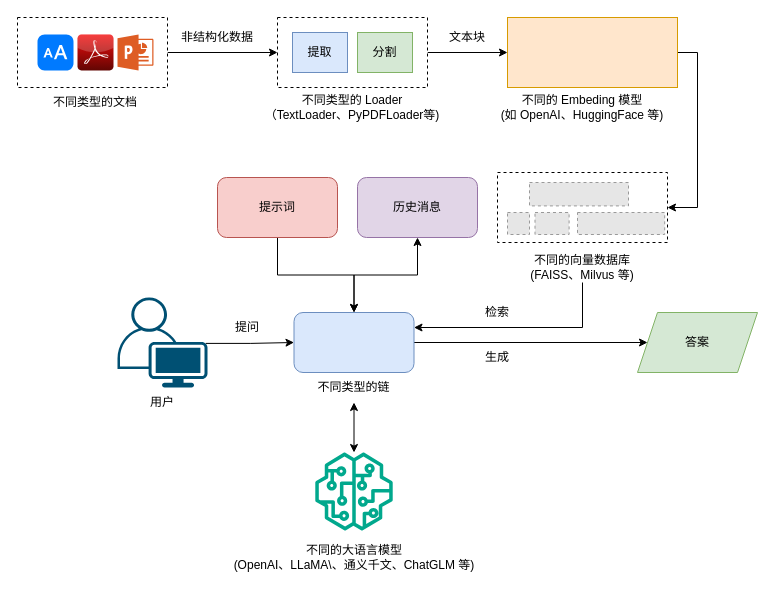
This 775x590 diagram has some shape labels left out. Grey dashed boxes stand in for pictures. Here are the shapes that lost their labels. From the top down, the box of each, then its label:
(506, 16, 678, 88): 文本块的向量表示 (Word2Vec、GPT、BERT 等)
(293, 312, 414, 372): Chains
